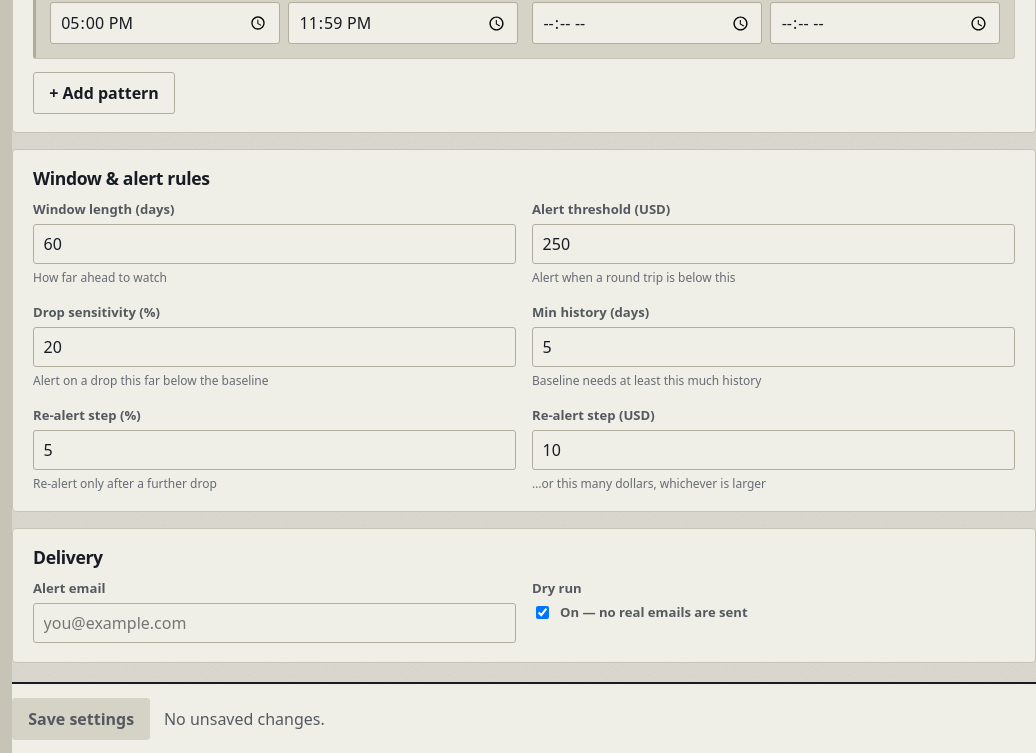
Scenario: SettingsForm › round-trips the dry-run toggle
(page scrolled)
expect the text "On — no real emails are sent" is shown: met, box x1=560 y1=603 x2=748 y2=623
Click the checkbox labelled "Dry run" at [542, 613], box x1=536 y1=606 x2=549 y2=619
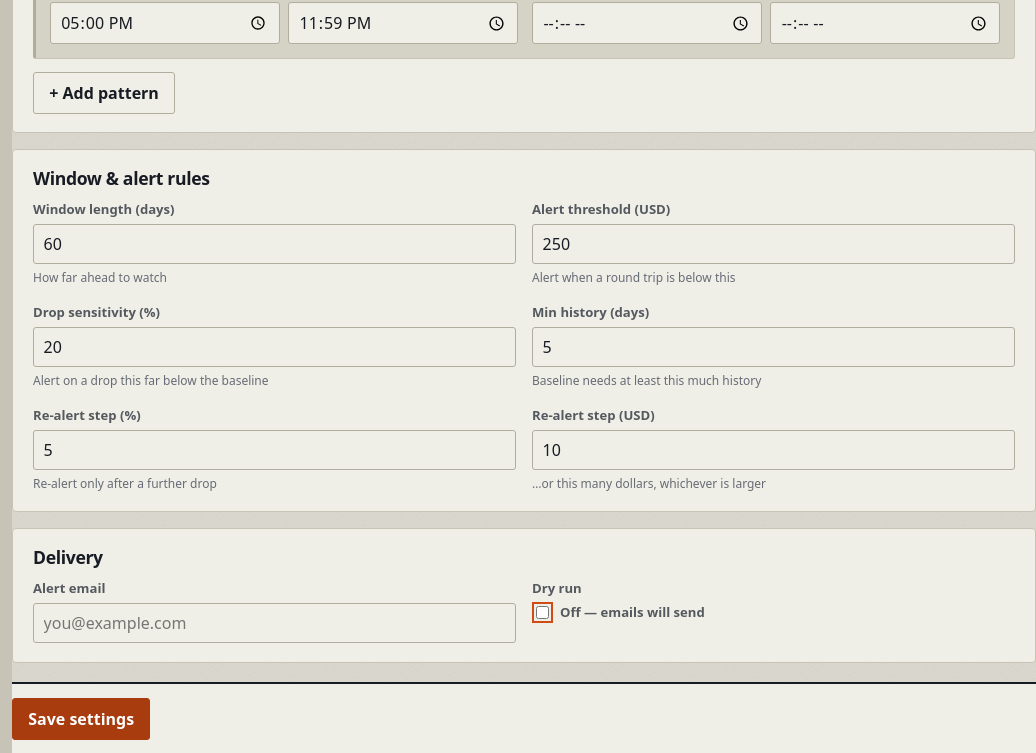
expect the text "Off — emails will send" is shown: met, box x1=560 y1=603 x2=705 y2=623
